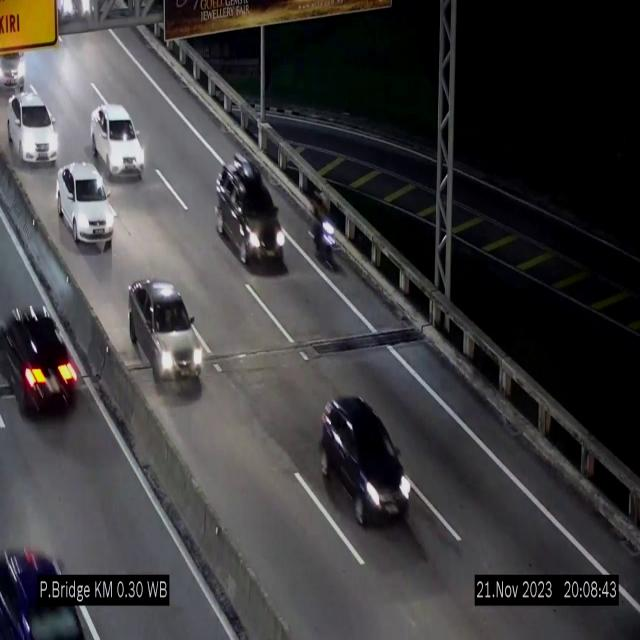Car: (320, 396, 412, 526), (213, 154, 288, 273), (128, 279, 202, 392), (57, 162, 115, 244), (91, 104, 145, 180), (8, 91, 57, 163)
Motorcycle: (313, 193, 335, 275)
